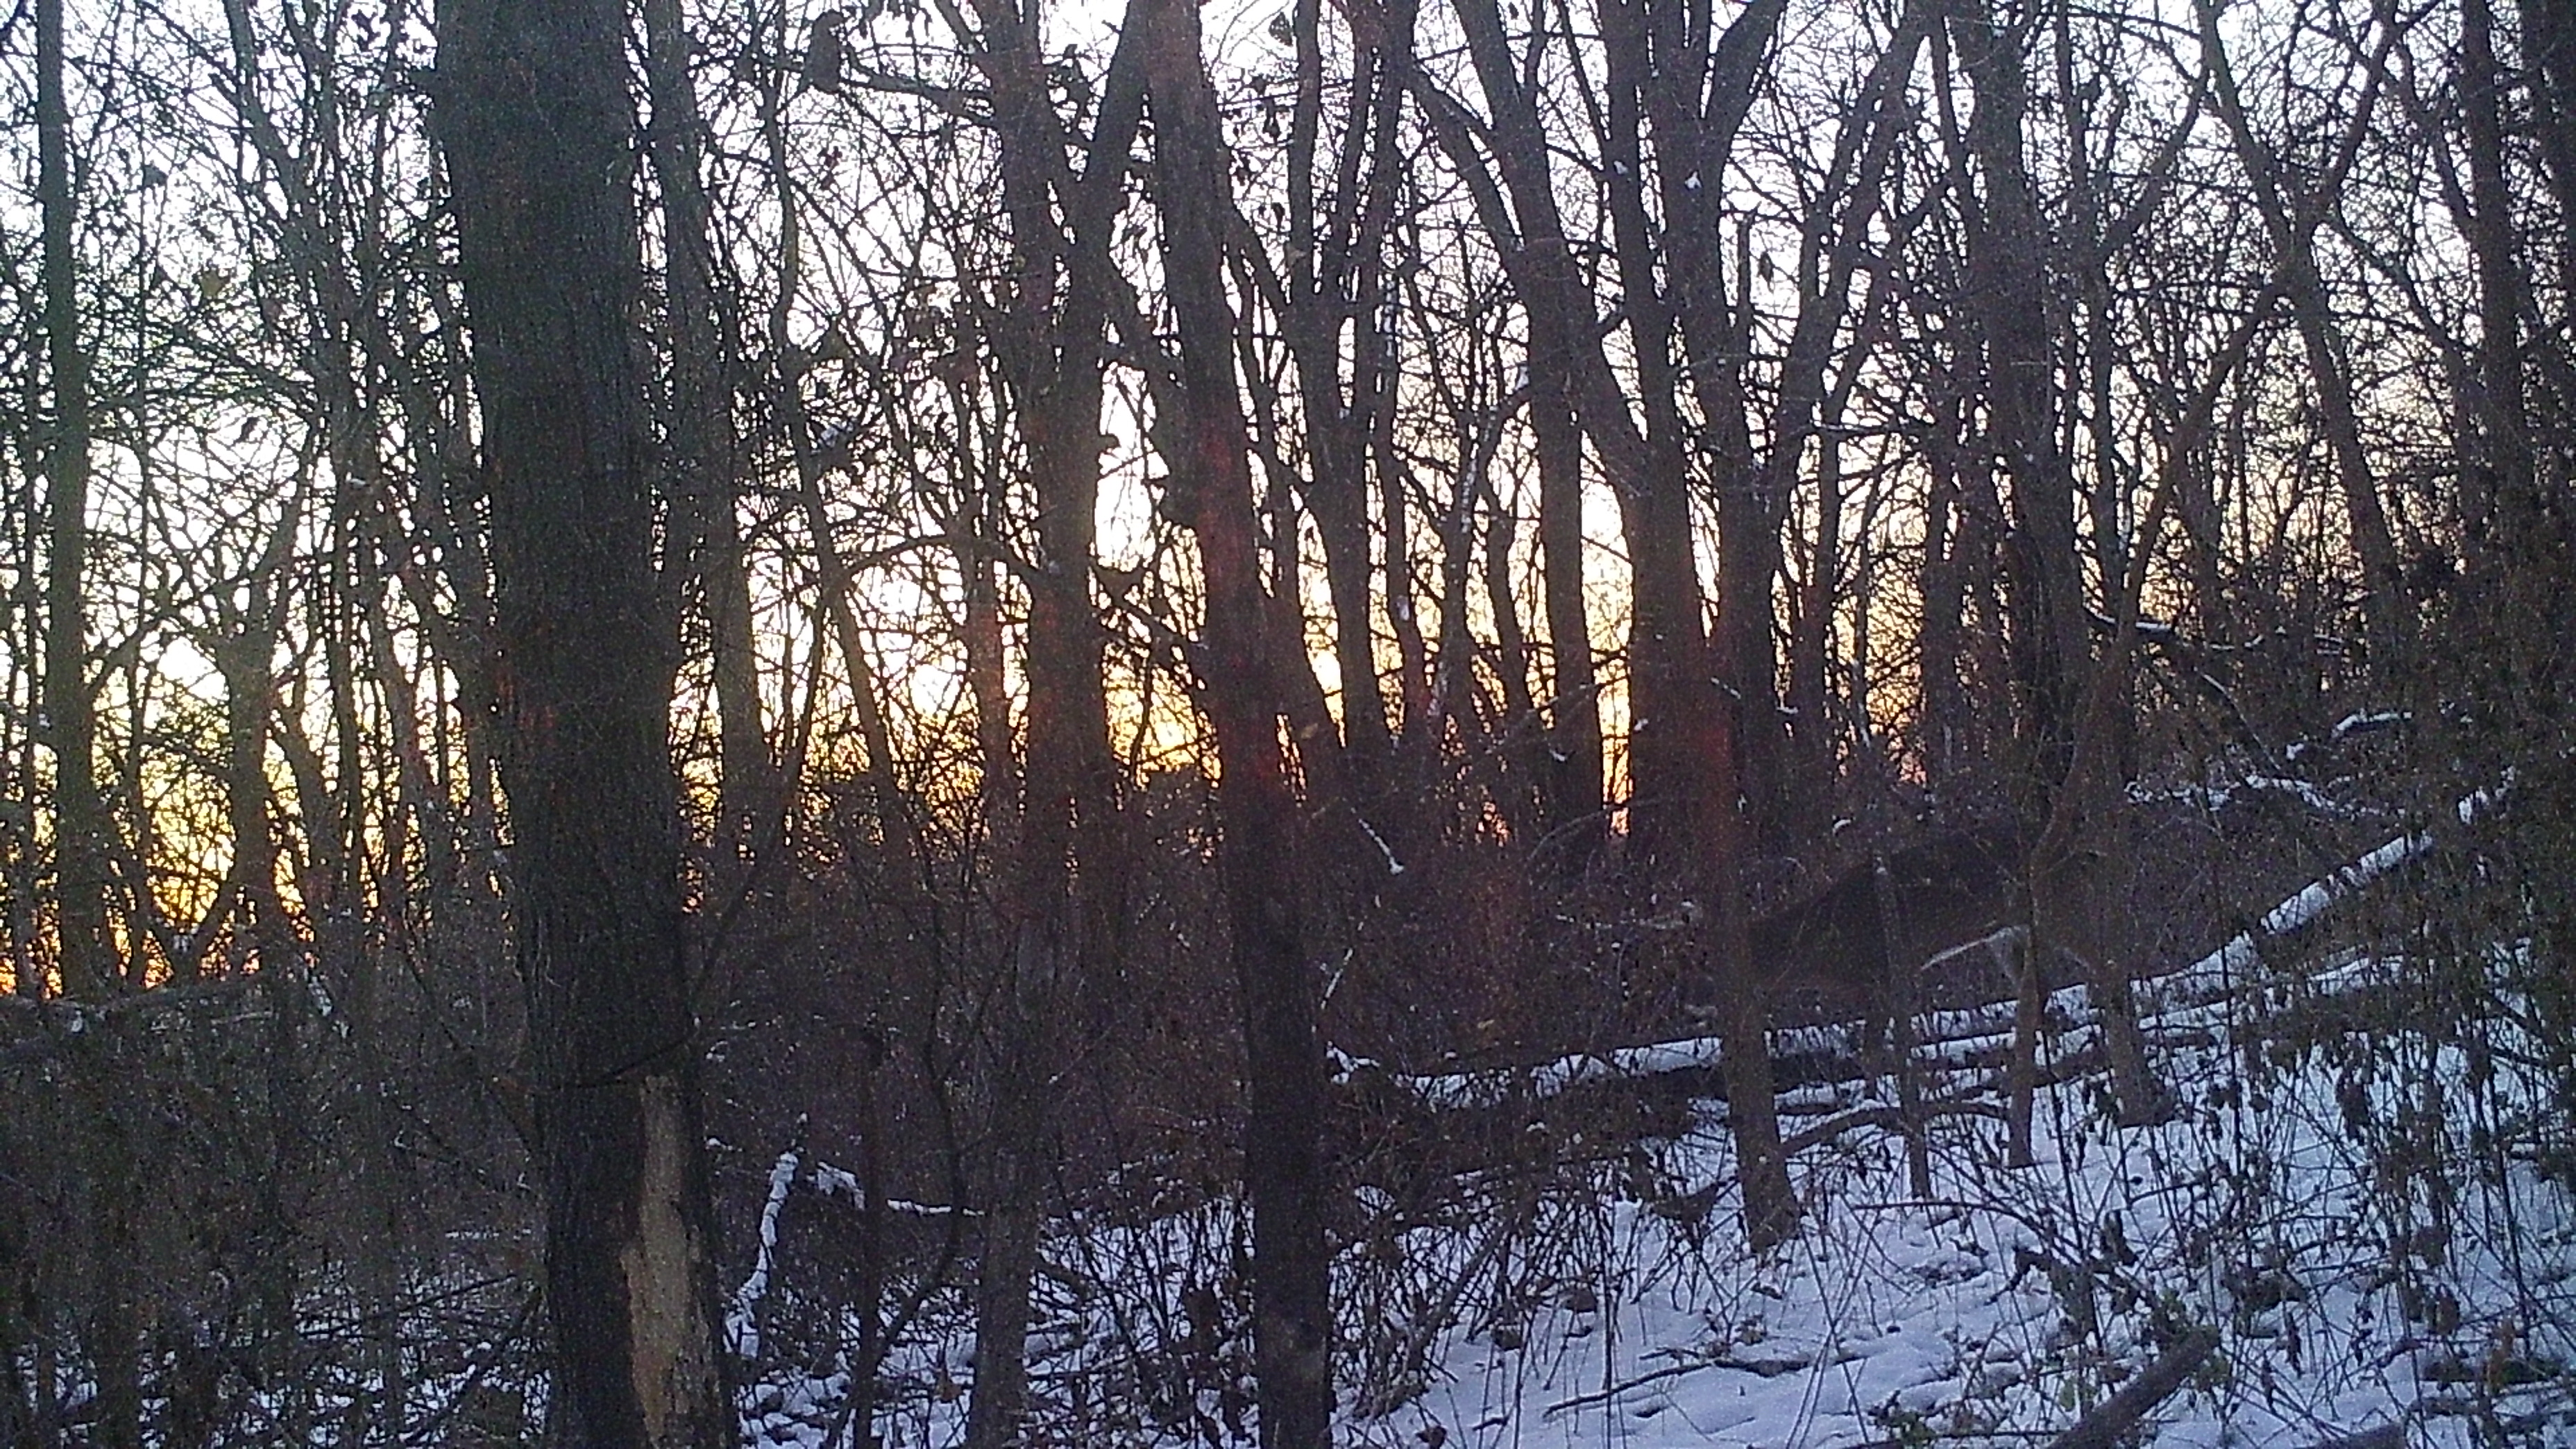Deer: (1675, 800, 2086, 1053)
